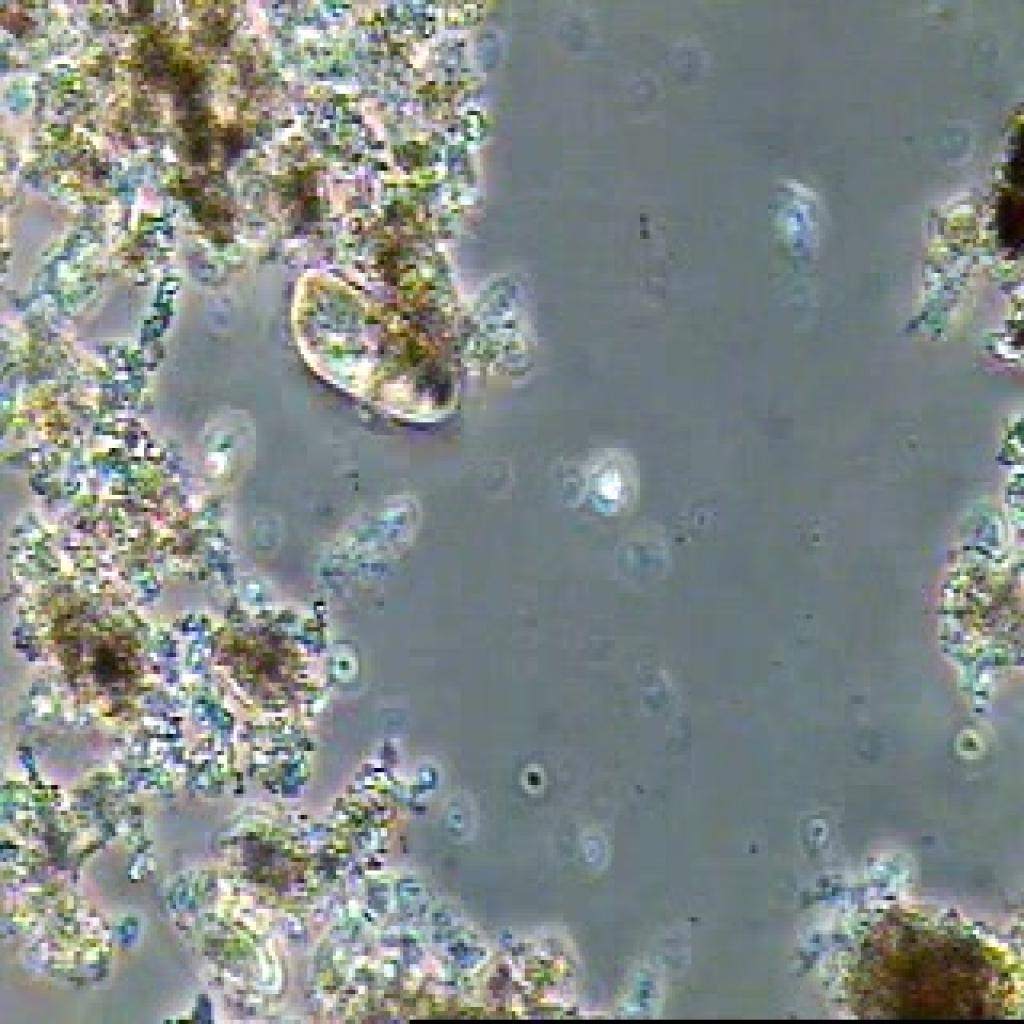Paramecium: (278, 246, 474, 472)
